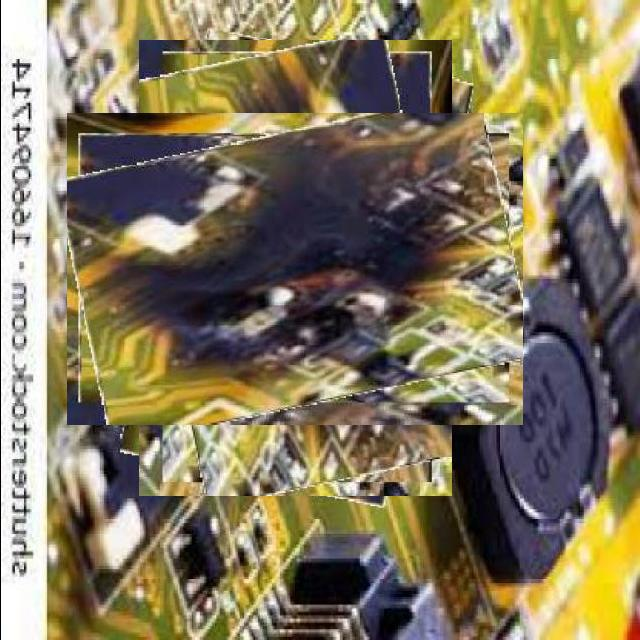damged: (103, 76, 488, 461)
